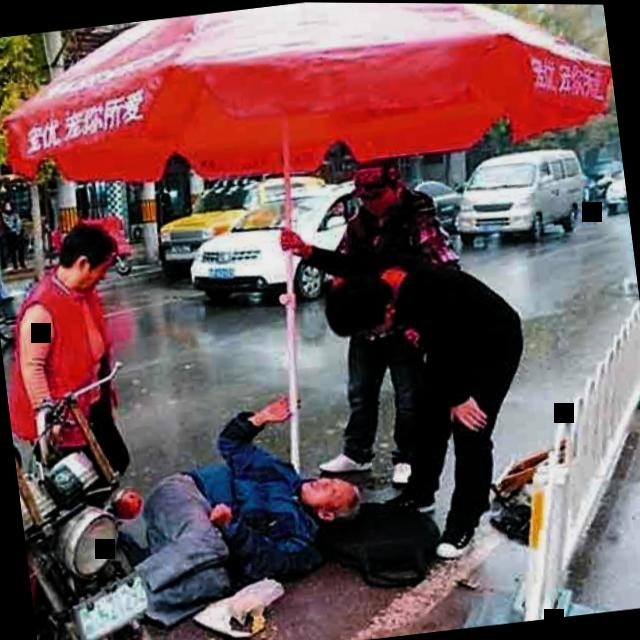Fall-Detected: (102, 372, 384, 636)
